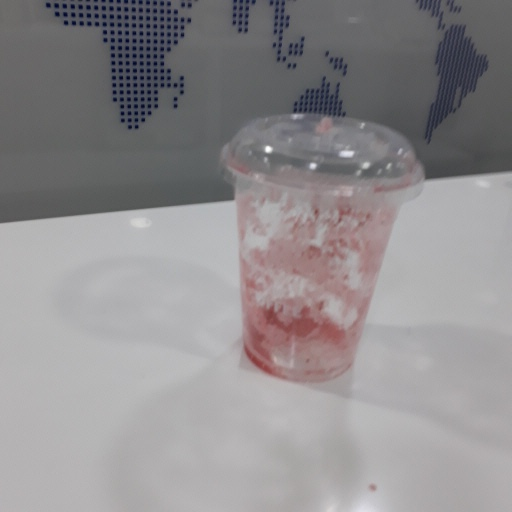Plastic_2: (217, 112, 422, 379)
